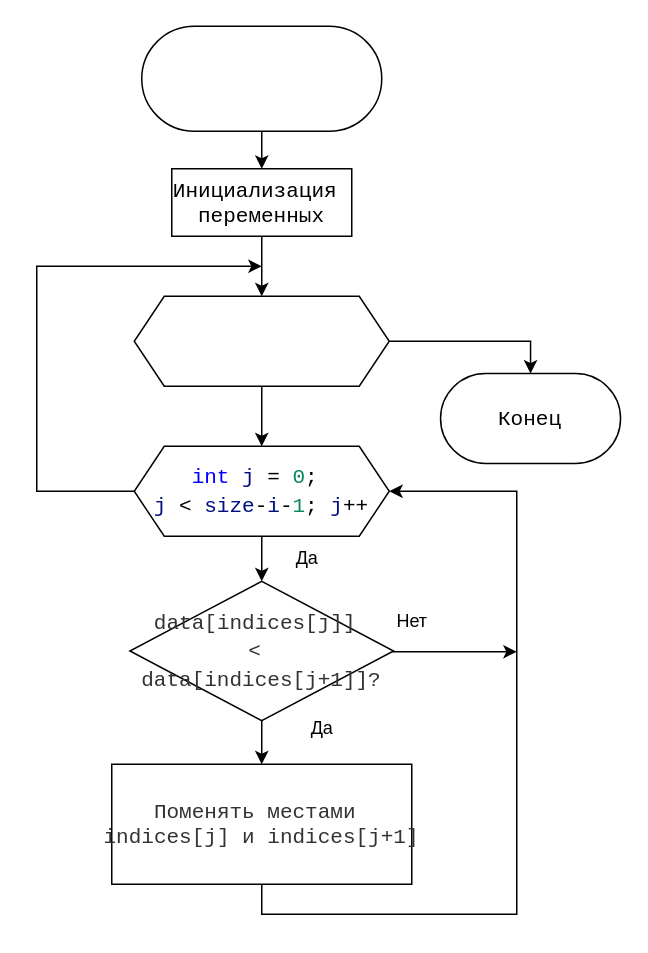
Some shapes in this 648 by 953 pixel diagram are drawn without their labels. The shapes that lost their labels are listed below. From the top down, each one's centre as x and y in pixels, then its label:
At point 261,78: "Начало bubble_sort".
At point 261,340: "int i = 0 ; i < size - 1 ; i ++".
